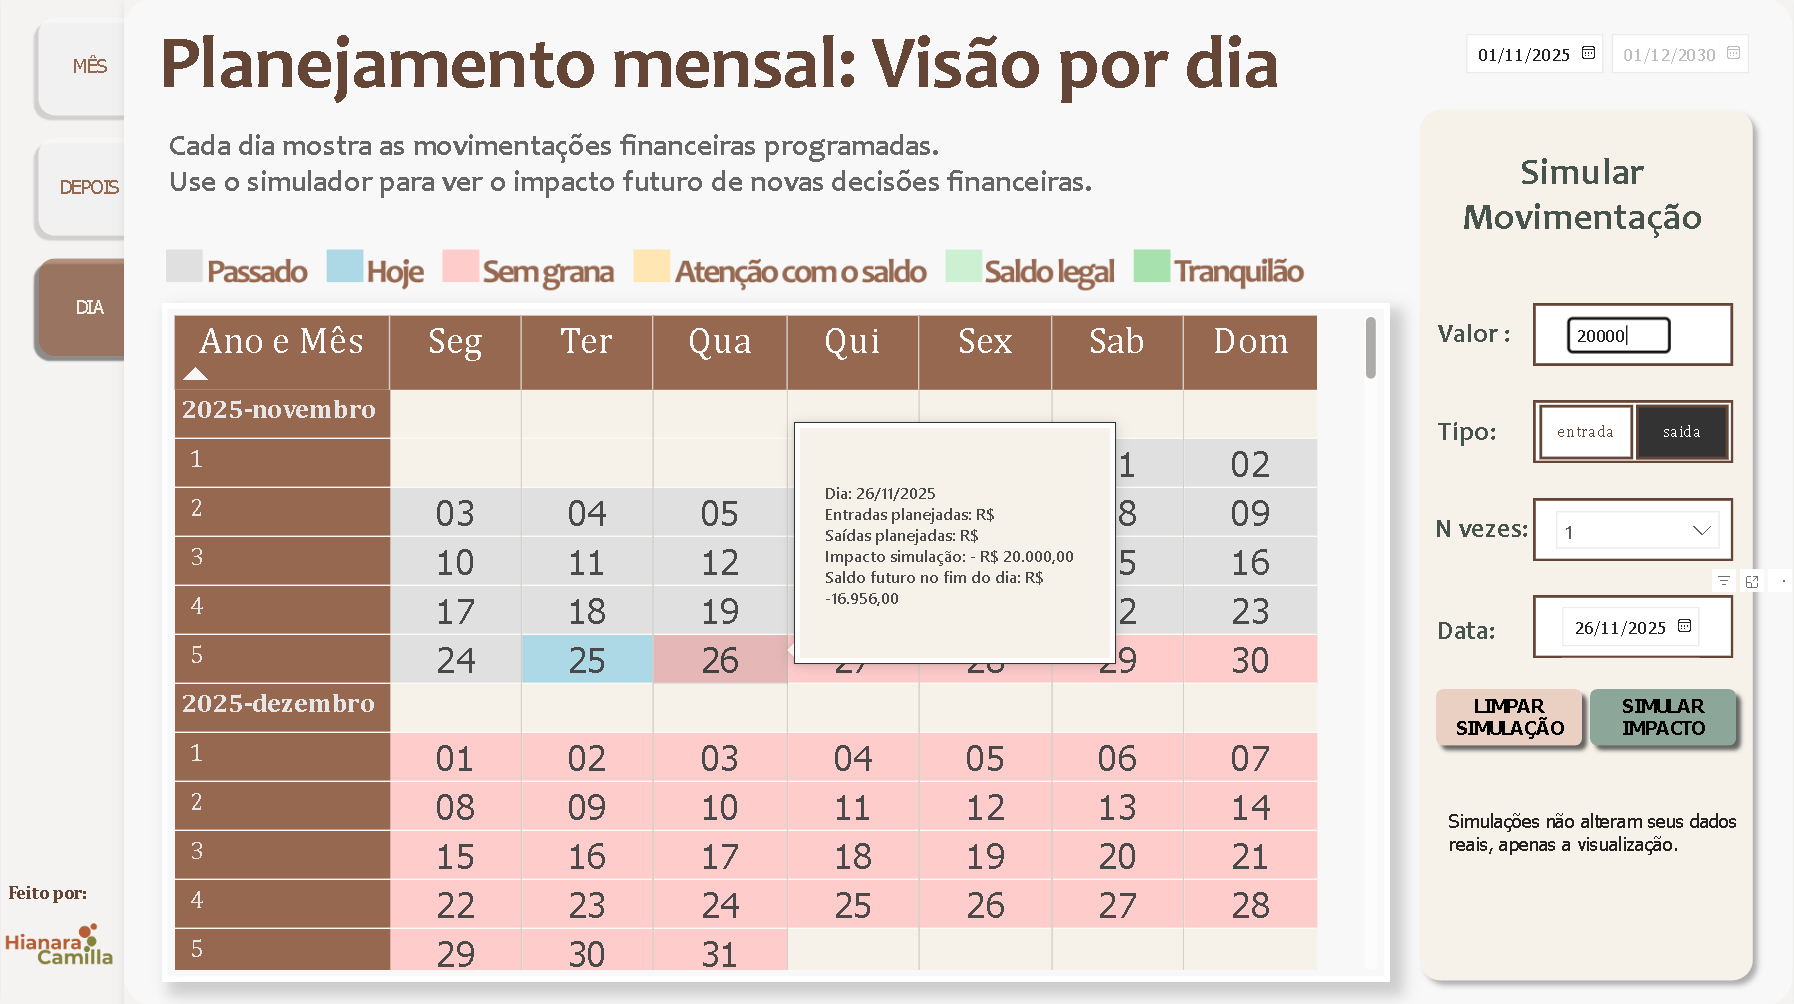

What the dashboard file says about the page in this screenshot:
{"tool":"powerbi","page":{"name":"DIA","canvas":[1280,720],"ordinal":2},"visuals":[{"type":"shape","box":[88,0,1192,720],"z":0},{"type":"slicer","fields":{"Values":["ParamSim_Ativo.Aplicar"]},"box":[1020,476,227,66],"z":1000},{"type":"shape","box":[1004,71,256,640],"z":2000},{"type":"pageNavigator","box":[11,8,96,256],"z":3000},{"type":"textbox","box":[1021.1,103.2,216,88],"z":4000},{"type":"textbox","box":[1019.3,362,108,40],"z":5000},{"type":"textbox","box":[1021,435,85,38],"z":6000},{"type":"textbox","box":[1021.2,222.7,77.1,39.9],"z":7000},{"type":"textbox","box":[1029,575,216,72],"z":8000},{"type":"shape","box":[1094,218,143,45],"z":9000},{"type":"shape","box":[1094,426.4,143.3,45.3],"z":10000},{"type":"textbox","box":[1021.2,292.7,77.3,40],"z":11000},{"type":"slicer","fields":{"Values":["ParamSim_Valor.ParamSim_Valor"]},"box":[1106,218,174,41],"z":12000},{"type":"slicer","fields":{"Values":["ParamSim_Data.Data"]},"box":[1099,426,181,45],"z":13000},{"type":"slicer","fields":{"Values":["D_Calendario.AnoMes"]},"box":[1033.9,15.6,231.5,48.6],"z":14000},{"type":"textbox","box":[107,8,842,86],"z":15000},{"type":"pivotTable","fields":{"Rows":["D_Calendario.AnoMes","D_Calendario.SemanaMes"],"Columns":["D_Calendario.DiaSemana"],"Values":["M_Medidas_Financeiro.Dia Label"]},"box":[115.5,210.9,876.4,484.5],"z":16000},{"type":"shape","box":[1094.2,269.9,143.3,80],"z":17000},{"type":"shape","box":[1094,356.8,143.3,45.3],"z":18000},{"type":"slicer","fields":{"Values":["ParamSim_Parcelas.ParamSim_Parcelas"]},"box":[1100.7,356.7,136.7,51.3],"z":19000},{"type":"slicer","fields":{"Values":["Param Tipo Sim.Tipo"]},"box":[1102,275,128,76],"z":20000},{"type":"actionButton","box":[1015.6,483.3,120,56.7],"z":21000},{"type":"actionButton","box":[1126.7,483.3,120,56.7],"z":22000},{"type":"textbox","box":[115,87,785,72],"z":23000},{"type":"image","box":[107.3,122.7,833.6,85.5],"z":24000},{"type":"image","box":[0,639,84,72],"z":25000},{"type":"textbox","box":[0,626,76,40],"z":26000}]}

Visuals, with their boxes in screenshot pixels (x1, y1, x2, y2), scaled from the page's 1280x720 canvas onto the 1794x1004 screenshot:
shape: rect(123, 0, 1793, 1003)
slicer - ParamSim_Ativo.Aplicar: rect(1430, 664, 1748, 756)
shape: rect(1407, 99, 1766, 991)
pageNavigator: rect(15, 11, 150, 368)
textbox: rect(1431, 144, 1734, 267)
textbox: rect(1429, 505, 1580, 561)
textbox: rect(1431, 607, 1550, 660)
textbox: rect(1431, 311, 1539, 366)
textbox: rect(1442, 802, 1745, 902)
shape: rect(1533, 304, 1734, 367)
shape: rect(1533, 595, 1734, 658)
textbox: rect(1431, 408, 1540, 464)
slicer - ParamSim_Valor.ParamSim_Valor: rect(1550, 304, 1793, 361)
slicer - ParamSim_Data.Data: rect(1540, 594, 1793, 657)
slicer - D_Calendario.AnoMes: rect(1449, 22, 1774, 90)
textbox: rect(150, 11, 1330, 131)
pivotTable - D_Calendario.AnoMes x D_Calendario.SemanaMes: rect(162, 294, 1390, 970)
shape: rect(1534, 376, 1734, 488)
shape: rect(1533, 498, 1734, 561)
slicer - ParamSim_Parcelas.ParamSim_Parcelas: rect(1543, 497, 1734, 569)
slicer - Param Tipo Sim.Tipo: rect(1545, 383, 1724, 489)
actionButton: rect(1423, 674, 1592, 753)
actionButton: rect(1579, 674, 1747, 753)
textbox: rect(161, 121, 1261, 222)
image: rect(150, 171, 1319, 290)
image: rect(0, 891, 118, 991)
textbox: rect(0, 873, 107, 929)
